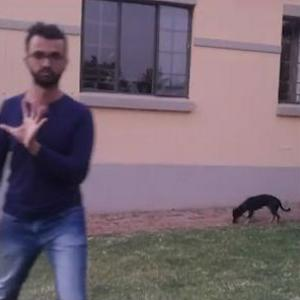follow_hand: (1, 90, 54, 146)
